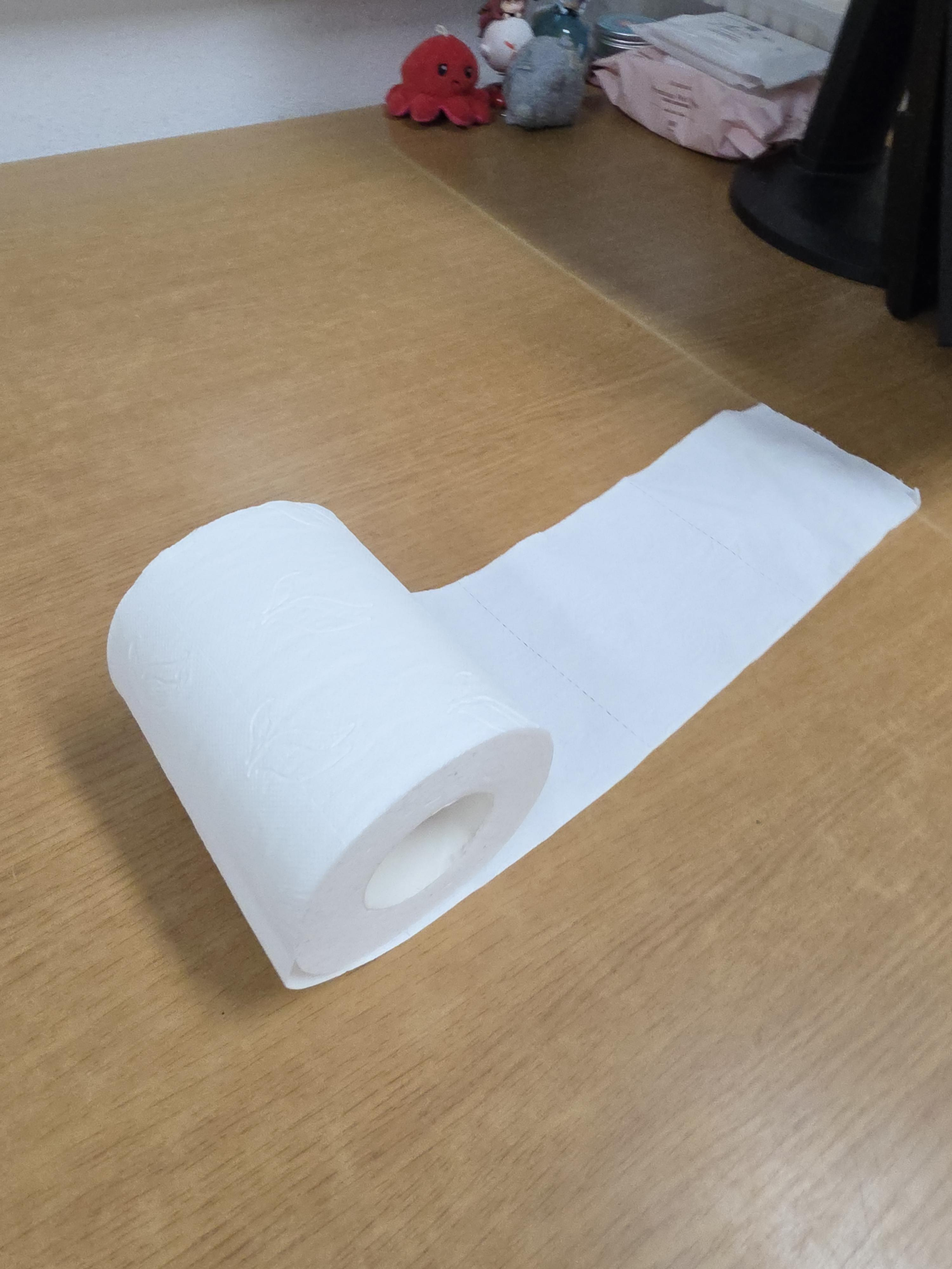tissue: (105, 402, 922, 990)
